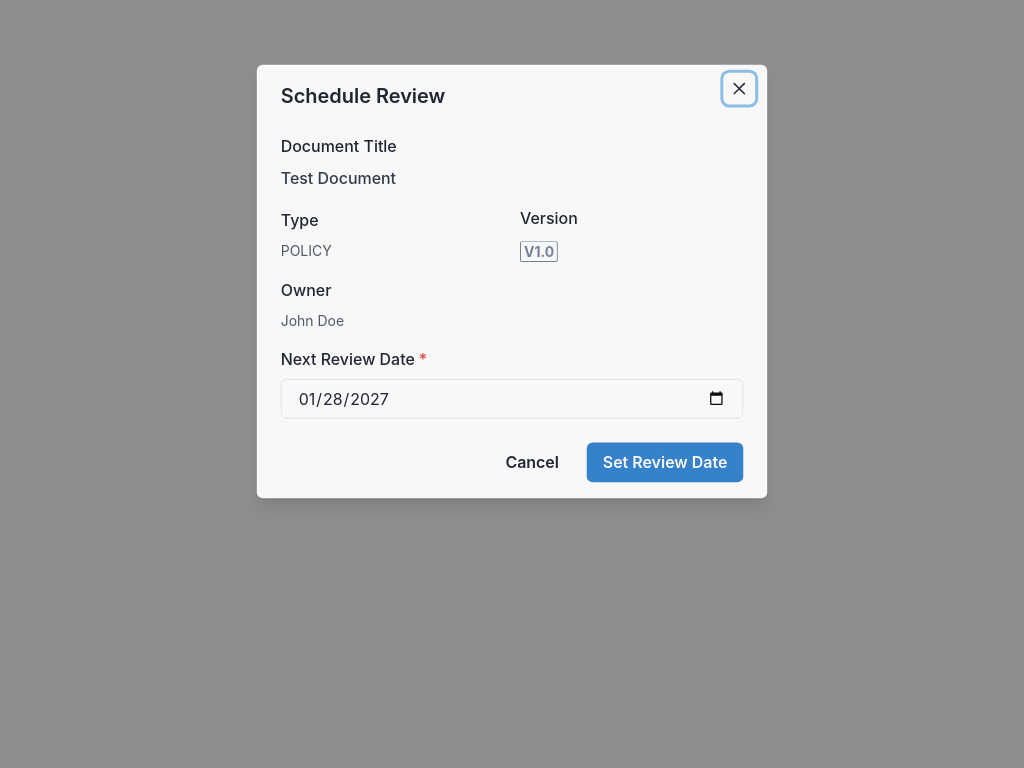
Test: SetReviewDateModal › Form Submission › should show loading state during submission
Expected: the text "Schedule Review" is shown, x1=281 y1=84 x2=445 y2=108
What coordinates should you click on to do the following:
click the button "Set Review Date"
I would click on:
 (665, 463)
Its box is x1=587 y1=443 x2=743 y2=482.
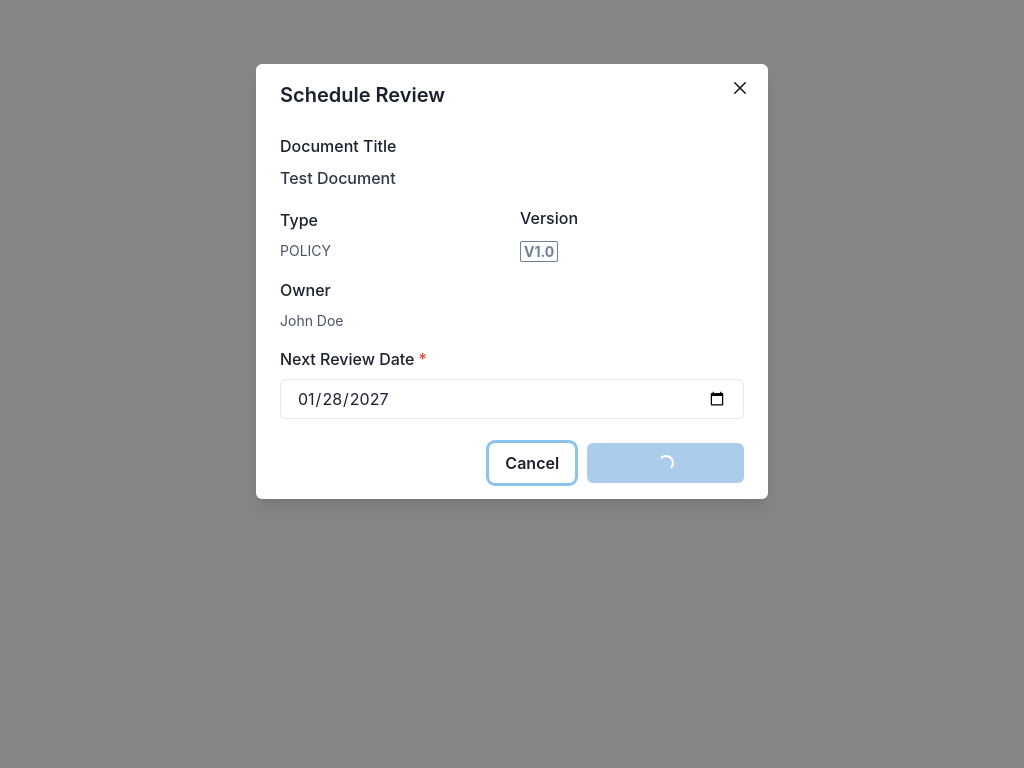
Expected: the button named "set review date" is disabled, x1=587 y1=443 x2=744 y2=483
